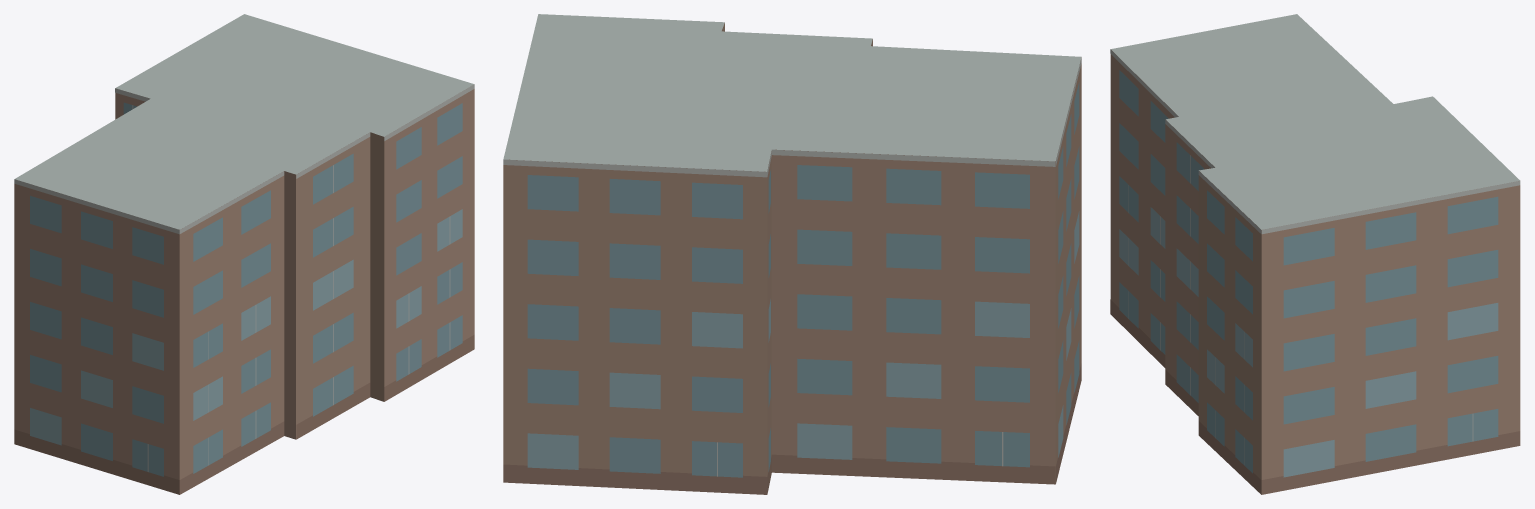
File: survey-upis-32930097.glb
The picture shows the model from 3 angles, left to right: view 1: azimuth 30°, elevation 25°; view 2: azimuth 150°, elevation 25°; view 3: azimuth 270°, elevation 25°; orthographic projection. The views are drawn at different scales.
Parts seen in each view (by area): view 1: survey-upis-32930097.tmp; view 2: survey-upis-32930097.tmp; view 3: survey-upis-32930097.tmp.
Boxes of the visible parts, left/top/right/bottom form: survey-upis-32930097.tmp: left=14, top=14, right=474, bottom=494; survey-upis-32930097.tmp: left=503, top=14, right=1081, bottom=494; survey-upis-32930097.tmp: left=1110, top=14, right=1520, bottom=494.
Size of the model in its own units: 24.99 by 14.3 by 20.05.
